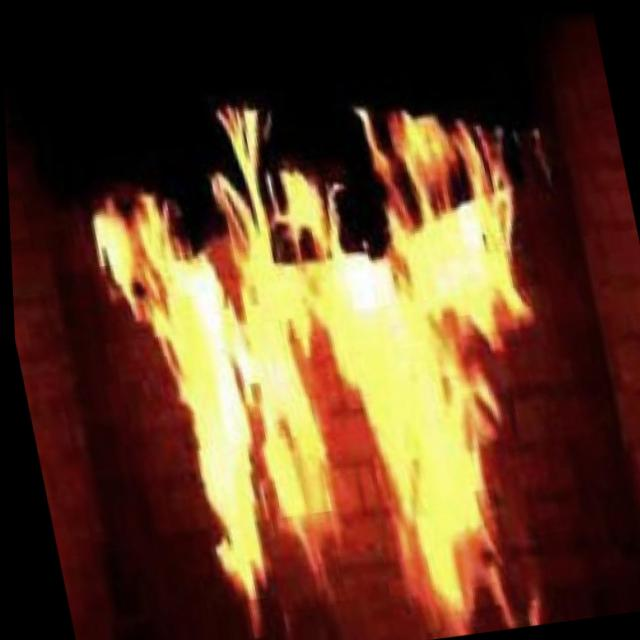Fire: (90, 155, 557, 637)
